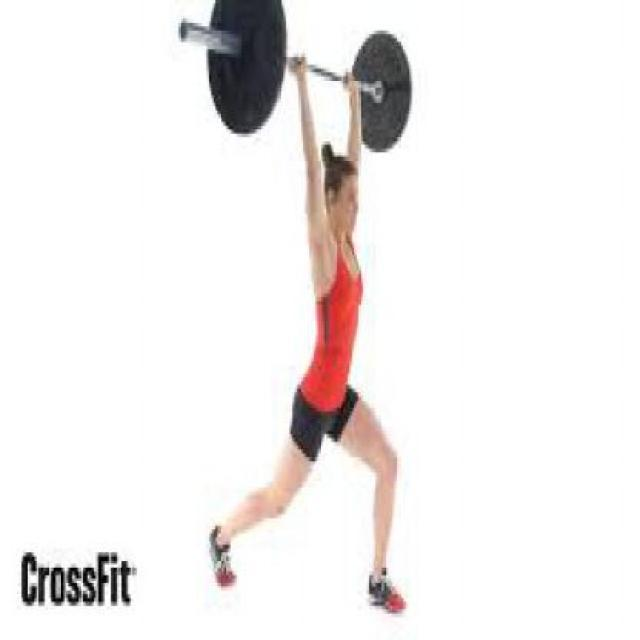Barbell: (177, 18, 191, 44)
